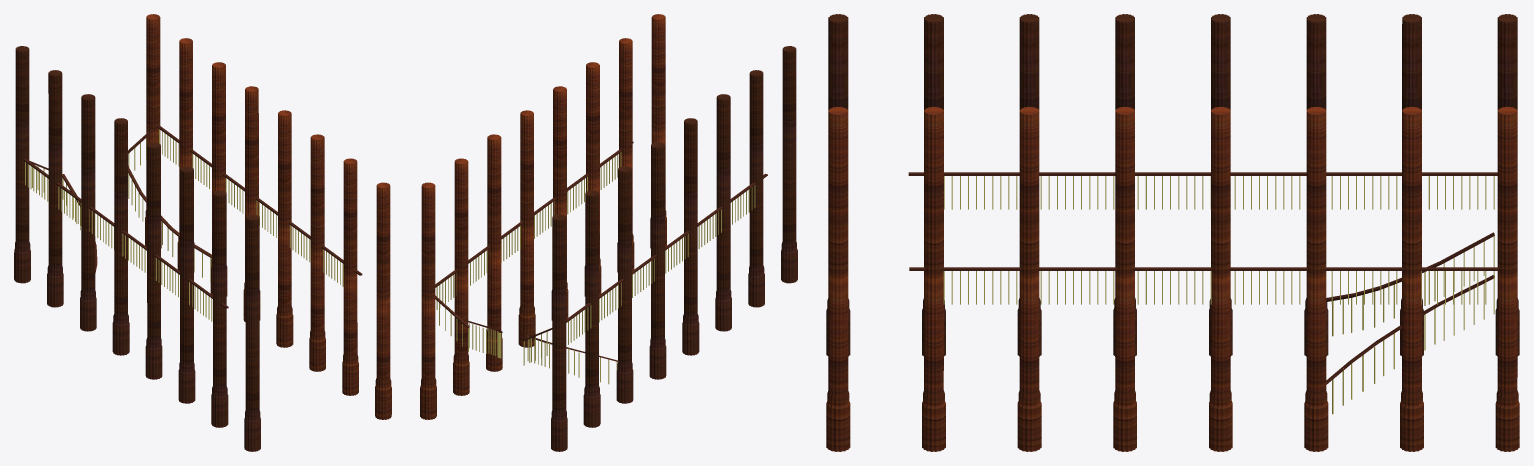
Rendered from pillars 1.fbx.
The picture shows the model from 3 angles, left to right: view 1: azimuth 30°, elevation 25°; view 2: azimuth 150°, elevation 25°; view 3: azimuth 270°, elevation 25°; orthographic projection. The views are drawn at different scales.
Visible parts, largest first — view 1: Cylinder.002, Cube.777; view 2: Cylinder.002, Cube.777; view 3: Cylinder.002, Cube.777.
Boxes of the visible parts, x1,y1,x2,y2 form: Cylinder.002: [14, 14, 391, 451]; Cube.777: [25, 129, 343, 321]; Cylinder.002: [420, 14, 797, 451]; Cube.777: [436, 152, 755, 384]; Cylinder.002: [826, 14, 1519, 451]; Cube.777: [943, 176, 1494, 414].
Bounding box in the file's own units: 482 × 734 × 1372.
